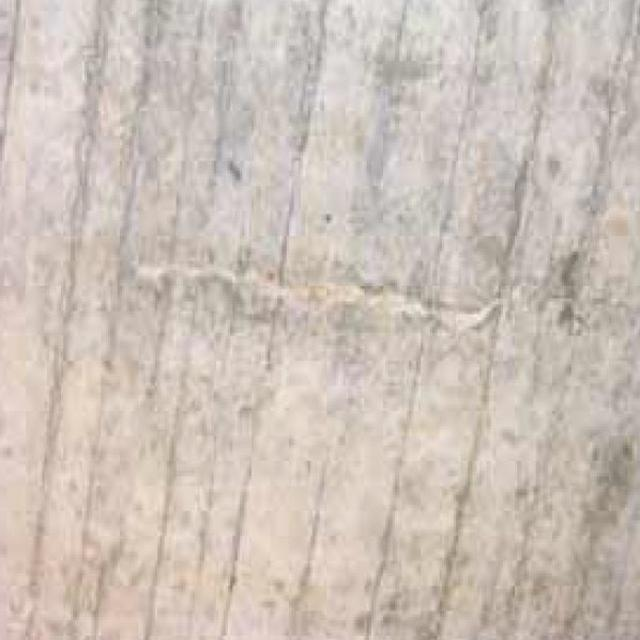freelime: (130, 248, 503, 338)
